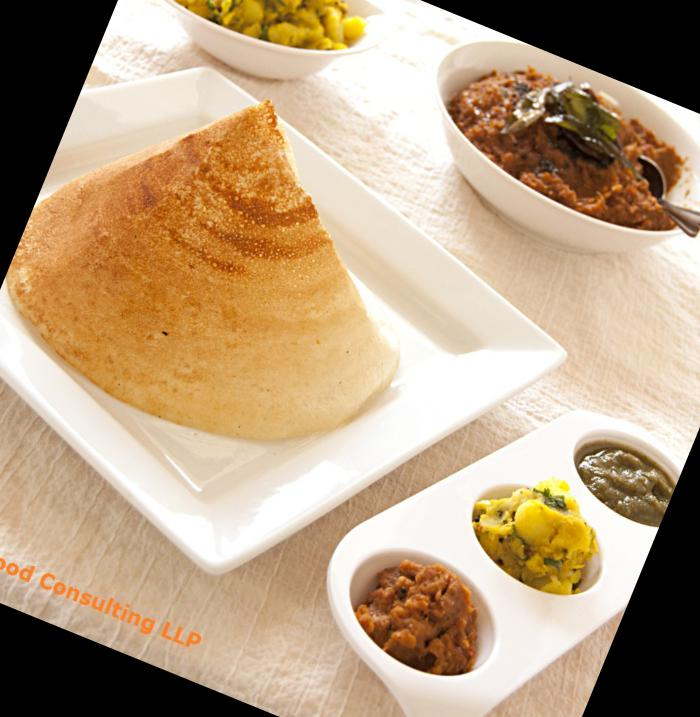dosa: (1, 102, 403, 445)
